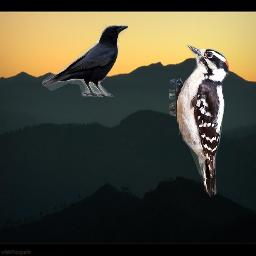Crow: (42, 25, 128, 97)
Woodpecker: (169, 44, 231, 199)
